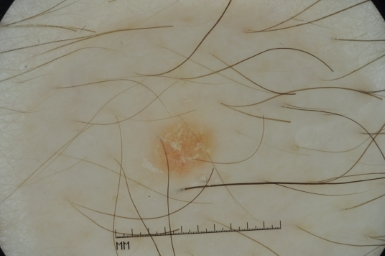seborrheic keratosis: (131, 115, 234, 184)
